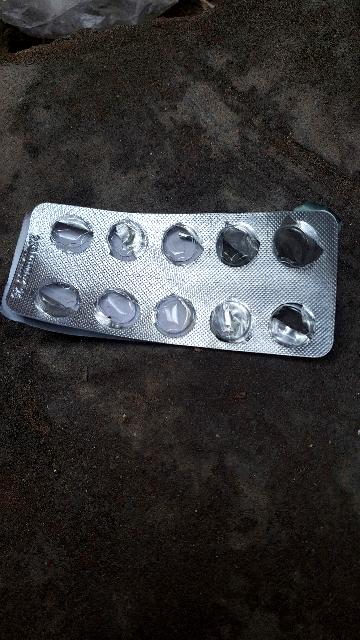medicine: (0, 193, 350, 360)
